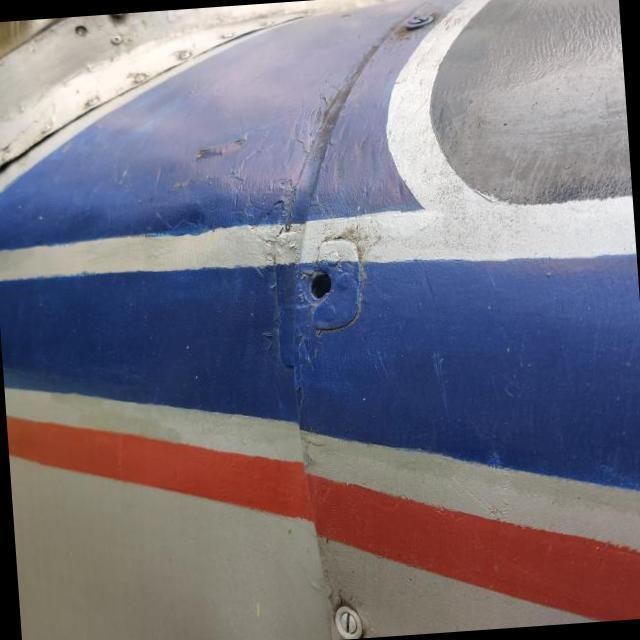Fastener Damage: (273, 230, 367, 328)
